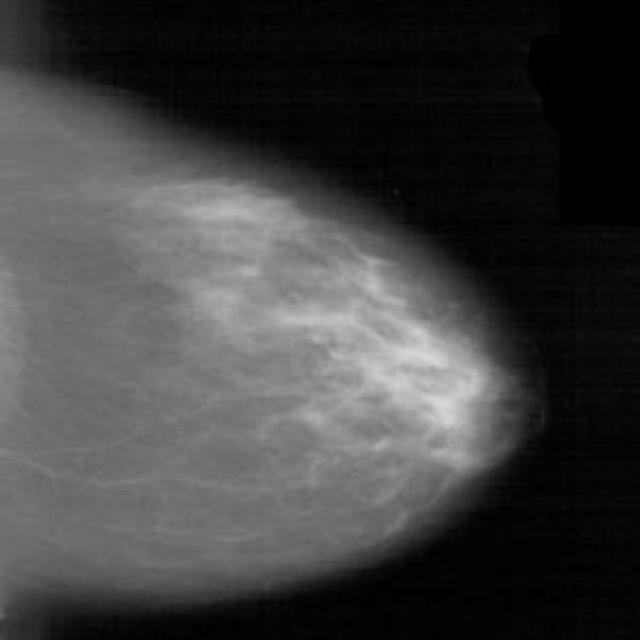tumor: (292, 244, 497, 481)
